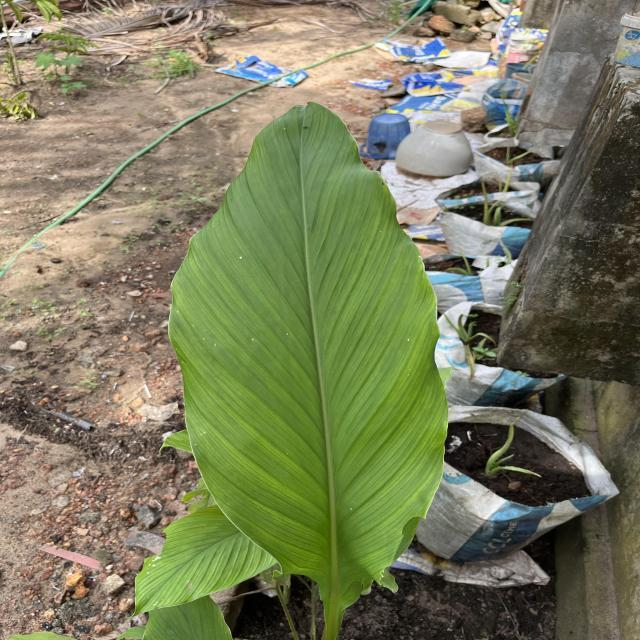Curcuma longa: (166, 96, 451, 616)
